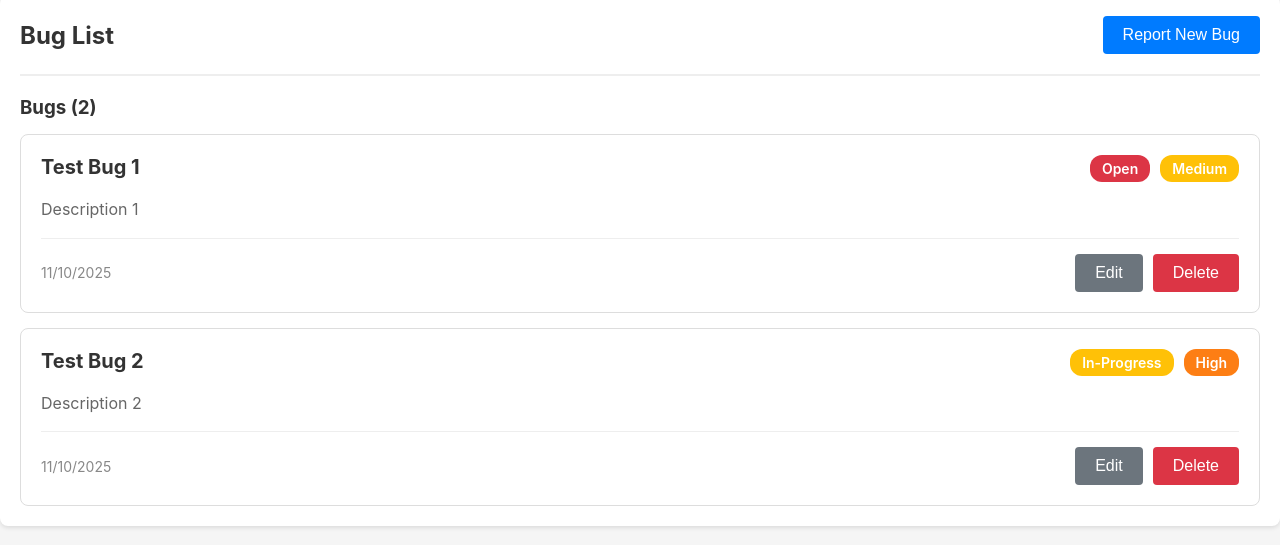
Test: BugTracker Integration Tests › should delete bug and remove it from the list
Note: Click delete button on first bug
Click the button with test id "delete-button" below "open": (1196, 273) x1=1153 y1=254 x2=1239 y2=292
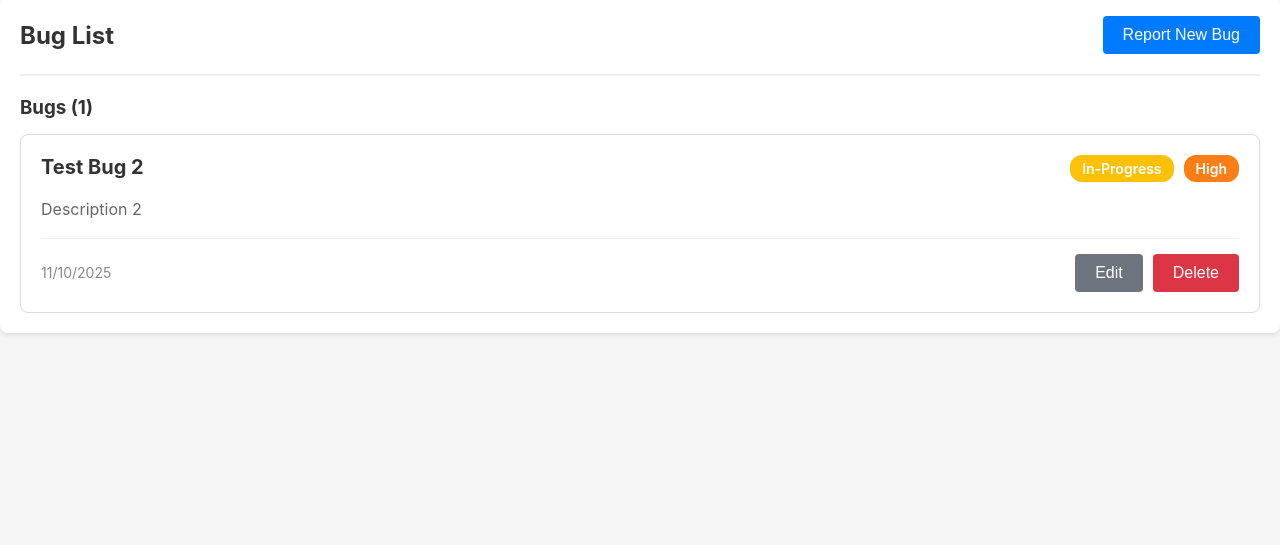
Expected: the heading "Test Bug 2" is shown, x1=41 y1=155 x2=144 y2=179
Result: the heading "Test Bug 1" is gone
